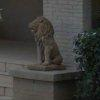Statue: (20, 7, 69, 75)
